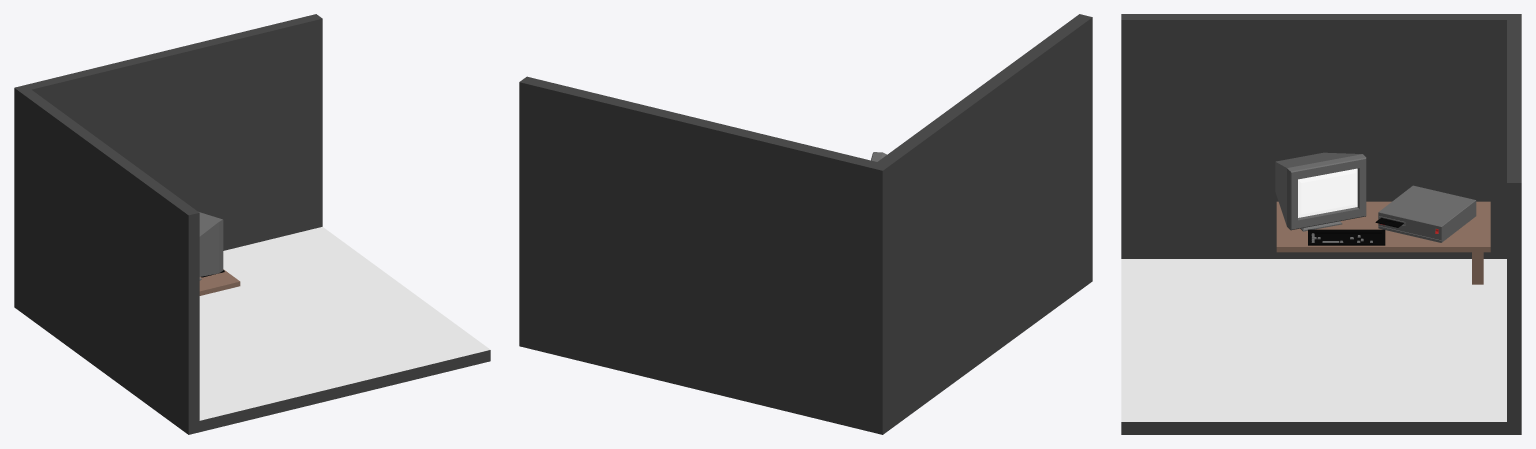
File: room.gltf
The picture shows the model from 3 angles, left to right: view 1: azimuth 30°, elevation 25°; view 2: azimuth 150°, elevation 25°; view 3: azimuth 270°, elevation 25°; orthographic projection. The views are drawn at different scales.
Parts seen in each view (by area): view 1: Room, Monitor, Table.002; view 2: Room; view 3: Room, Monitor, Table.002, Pc, Plane.022, Plane.016, Labak.001.
Part boxes in pixels (bbox=[...]): Room: bbox=[14, 14, 490, 434]; Monitor: bbox=[199, 212, 223, 280]; Table.002: bbox=[199, 269, 240, 295]; Room: bbox=[519, 14, 1092, 434]; Room: bbox=[1121, 14, 1521, 434]; Monitor: bbox=[1275, 152, 1366, 231]; Table.002: bbox=[1276, 201, 1490, 252]; Pc: bbox=[1378, 185, 1476, 242]; Plane.022: bbox=[1308, 229, 1385, 245]; Plane.016: bbox=[1378, 212, 1441, 242]; Labak.001: bbox=[1472, 252, 1483, 284].
Size of what is drawn, in the model's own units: 8.3 by 5.76 by 8.3.
